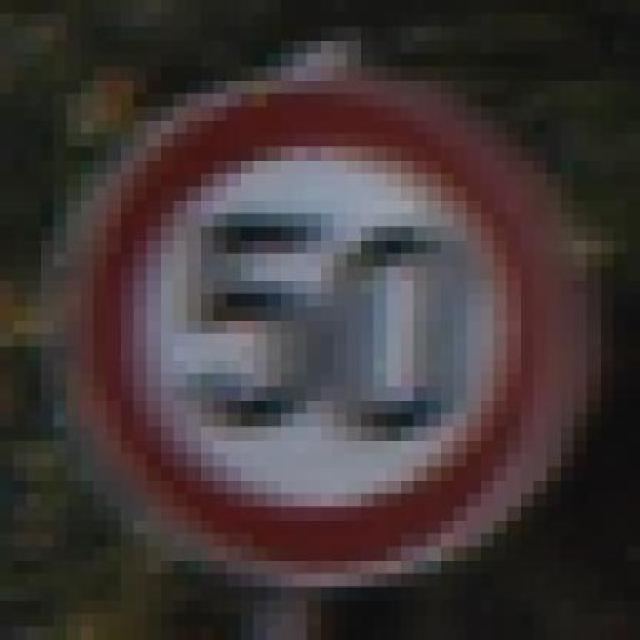forb_speed_over_50: (81, 83, 556, 572)
